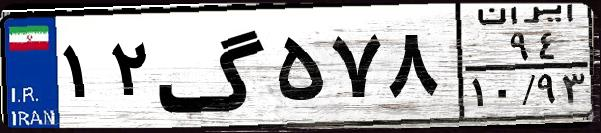0: (495, 70, 520, 125)
1: (57, 26, 110, 100), (470, 70, 495, 125)
2: (110, 28, 156, 98)
3: (560, 70, 590, 125)
4: (537, 27, 568, 80)
5: (270, 28, 330, 110)
7: (330, 28, 385, 110)
8: (385, 28, 445, 110)
9: (508, 27, 537, 80), (535, 70, 560, 125)
گ: (156, 12, 270, 120)
